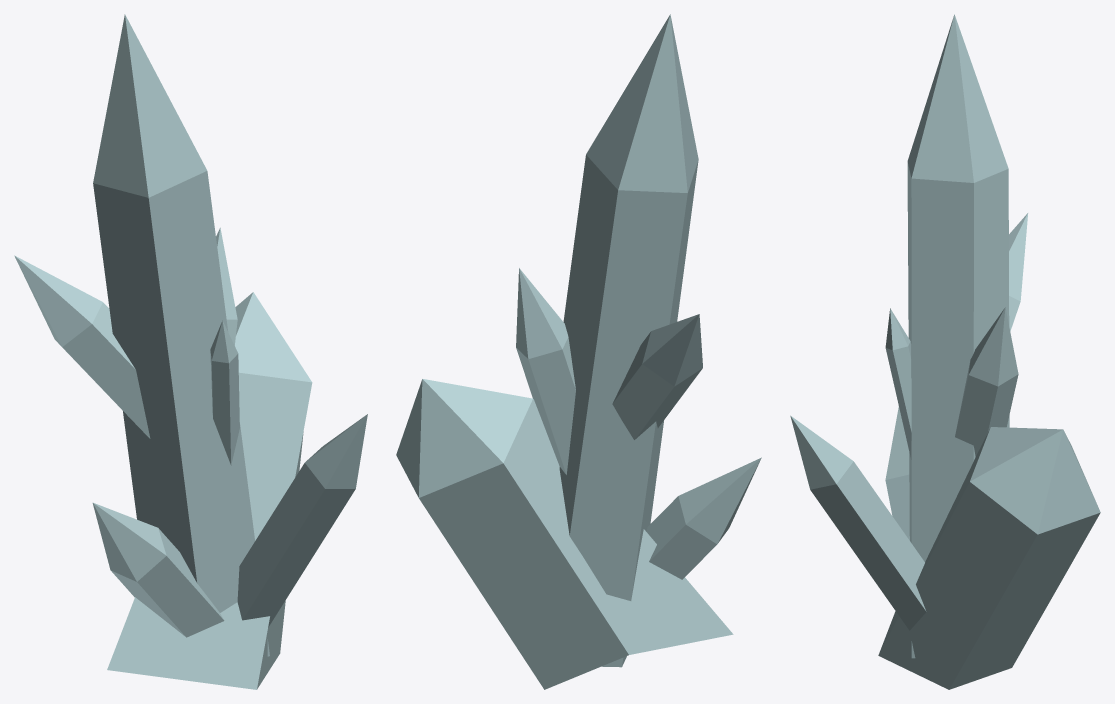
The model's file is crystal.dae.
The picture shows the model from 3 angles, left to right: view 1: azimuth 30°, elevation 25°; view 2: azimuth 150°, elevation 25°; view 3: azimuth 270°, elevation 25°; orthographic projection. The views are drawn at different scales.
Visible parts, largest first — view 1: Cube; view 2: Cube; view 3: Cube.
Part boxes in pixels (x1=…): Cube: x1=14, y1=14, x2=367, y2=689; Cube: x1=396, y1=14, x2=761, y2=689; Cube: x1=790, y1=14, x2=1100, y2=689.
Size of the model in its own units: 3.34 by 3.32 by 7.22.
